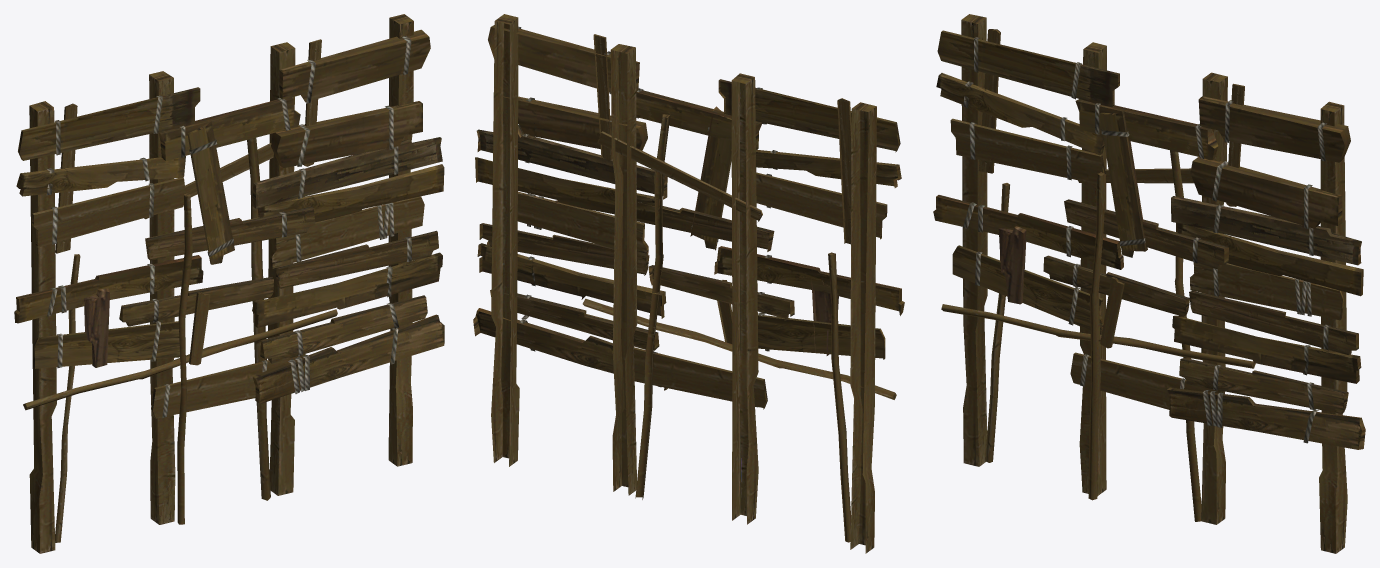
Rendered from 6001_Item_daolu_11.FBX.
The picture shows the model from 3 angles, left to right: view 1: azimuth 30°, elevation 25°; view 2: azimuth 150°, elevation 25°; view 3: azimuth 330°, elevation 25°; orthographic projection.
Visible parts, largest first — view 1: 6001_Item_daolu_11; view 2: 6001_Item_daolu_11; view 3: 6001_Item_daolu_11.
Boxes of the visible parts, bbox=[...] form: 6001_Item_daolu_11: bbox=[14, 14, 444, 553]; 6001_Item_daolu_11: bbox=[473, 14, 904, 553]; 6001_Item_daolu_11: bbox=[933, 14, 1365, 553].
Size of the model in its own units: 664 by 50.08 by 667.
